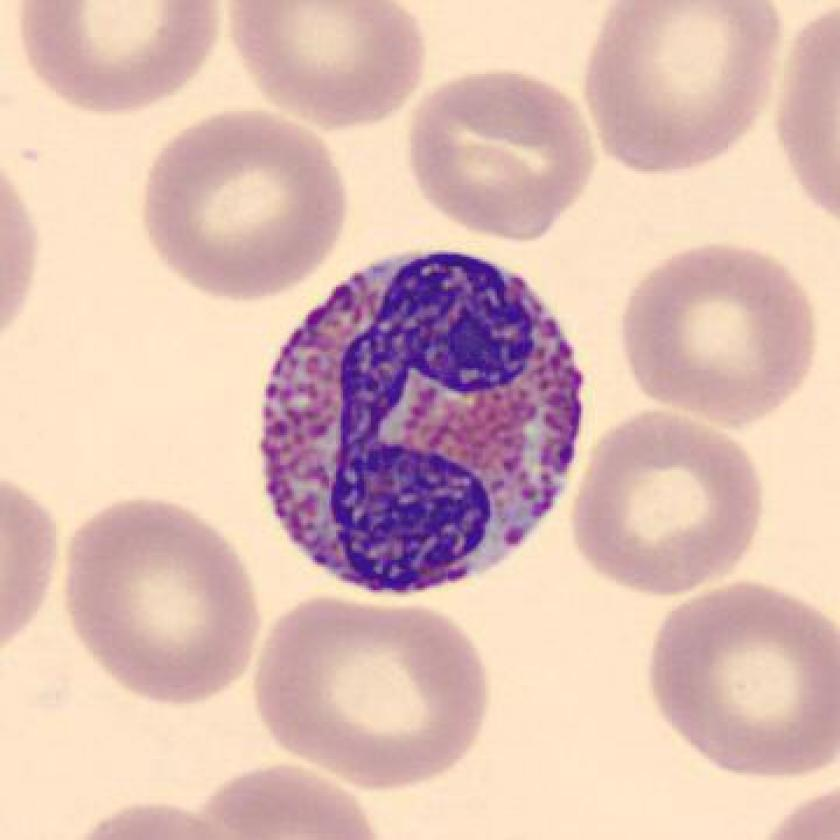eosinophil: (246, 237, 596, 612)
